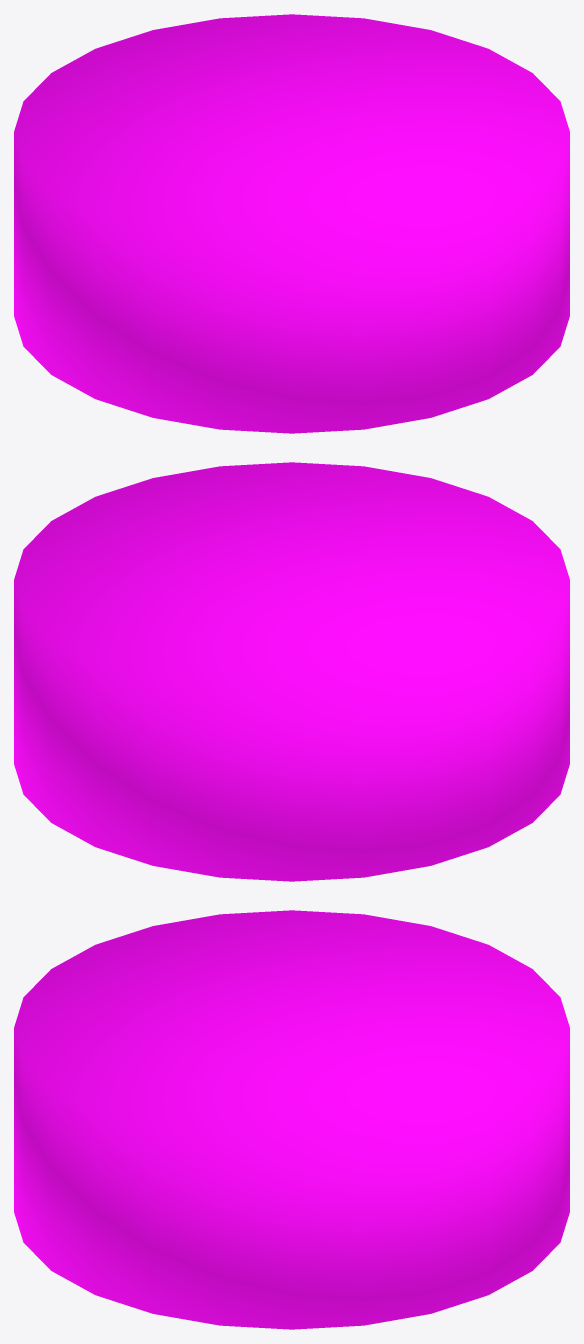
Rendered from connect-table-collision.glb.
3 views of the same model, one above another, from view 1: azimuth 30°, elevation 25°; view 2: azimuth 150°, elevation 25°; view 3: azimuth 270°, elevation 25° (orthographic).
Parts seen in each view (by area): view 1: connect-table-collision; view 2: connect-table-collision; view 3: connect-table-collision.
Boxes of the visible parts, left/top/right/bottom form: connect-table-collision: left=14, top=14, right=569, bottom=433; connect-table-collision: left=14, top=462, right=569, bottom=881; connect-table-collision: left=14, top=910, right=569, bottom=1329.
Size of the model in its own units: 3.28 by 1.2 by 3.28.
